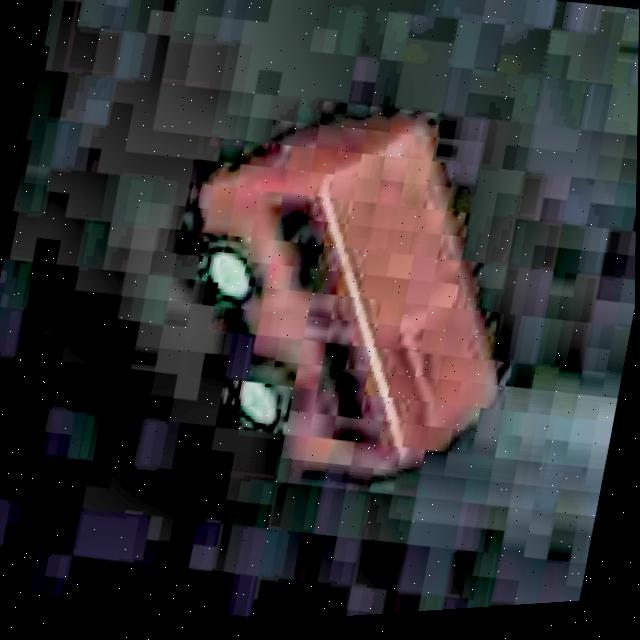bus: (146, 62, 555, 513)
